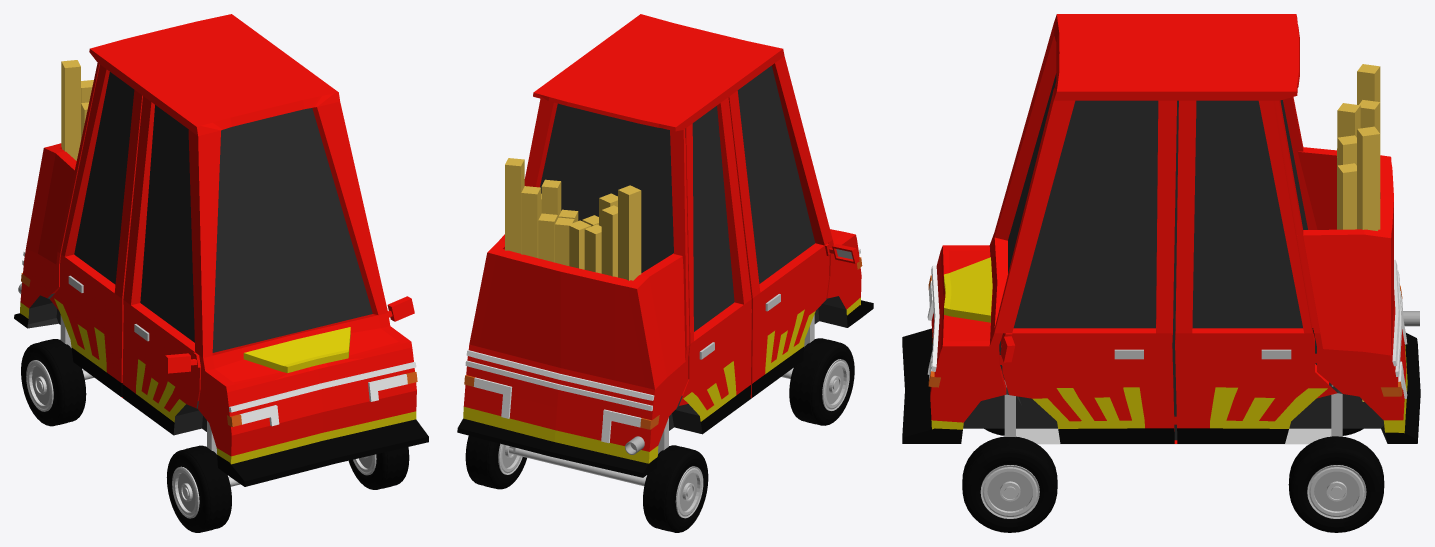
The model's file is CR-CAR-11A.fbx.
The picture shows the model from 3 angles, left to right: view 1: azimuth 30°, elevation 25°; view 2: azimuth 150°, elevation 25°; view 3: azimuth 270°, elevation 25°; orthographic projection. The views are drawn at different scales.
Parts seen in each view (by area): view 1: BODY, WHEEL.004, WHEEL.001, WHEEL.003; view 2: BODY, WHEEL.004, WHEEL.001, WHEEL.002; view 3: BODY, WHEEL.002, WHEEL.003, WHEEL.001, WHEEL.004.
Boxes of the visible parts, box(x1,y1,x2,y2) form: BODY: box(14, 14, 428, 486); WHEEL.004: box(21, 315, 93, 426); WHEEL.001: box(166, 421, 240, 532); WHEEL.003: box(348, 447, 409, 489); BODY: box(457, 14, 873, 477); WHEEL.004: box(509, 417, 708, 532); WHEEL.001: box(781, 314, 854, 425); WHEEL.002: box(465, 435, 526, 489); BODY: box(902, 14, 1420, 443); WHEEL.002: box(1288, 436, 1384, 532); WHEEL.003: box(962, 436, 1057, 532); WHEEL.001: box(984, 380, 1331, 444); WHEEL.004: box(1331, 385, 1363, 436).
Size of the model in its own units: 131 by 193 by 212.
